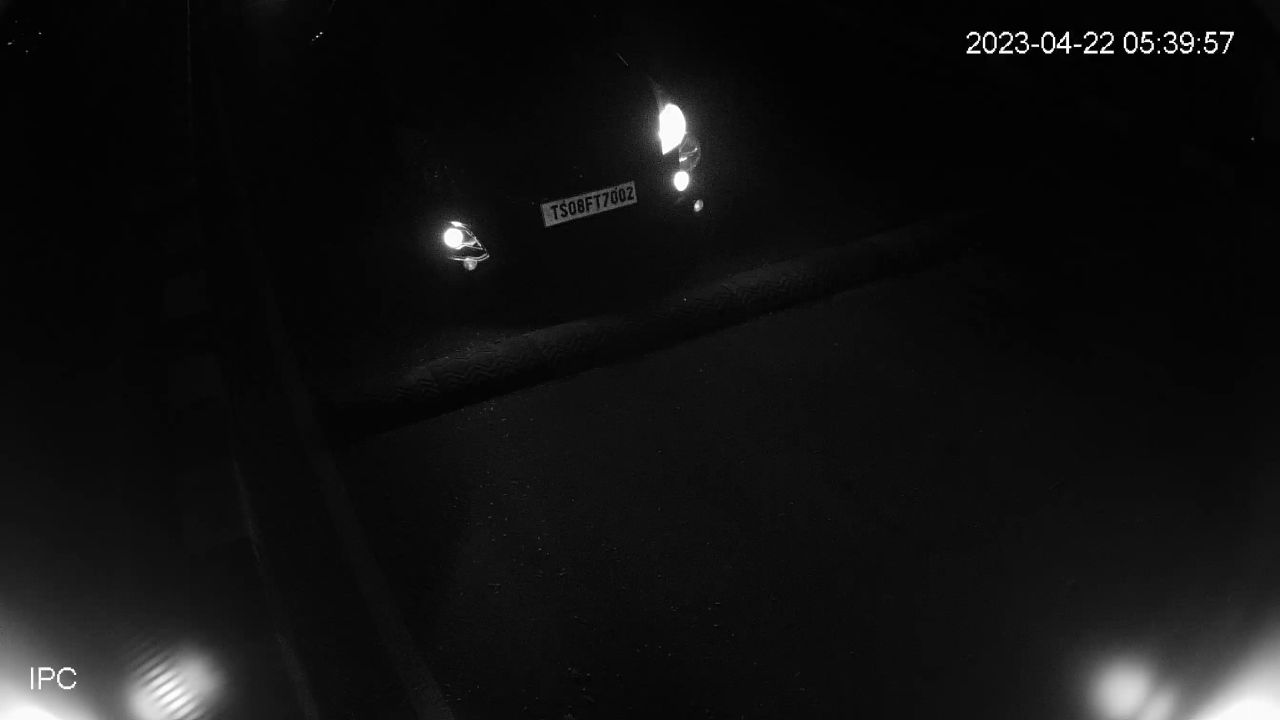license_plate: (533, 177, 642, 235)
